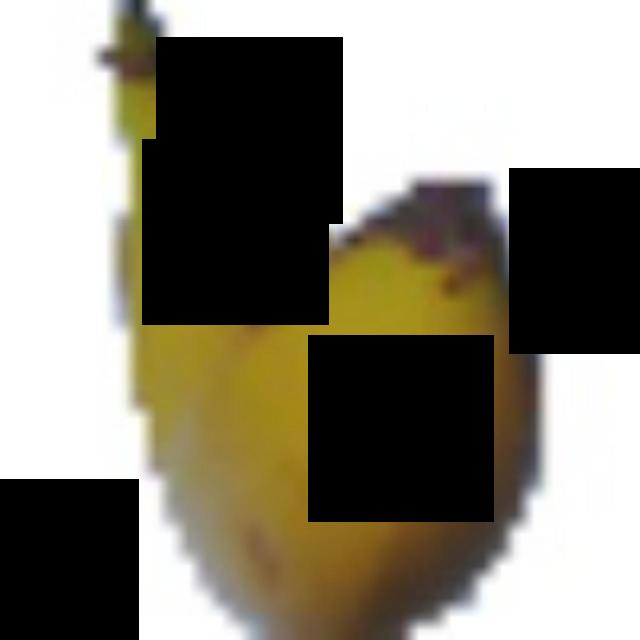banana: (96, 0, 544, 634)
